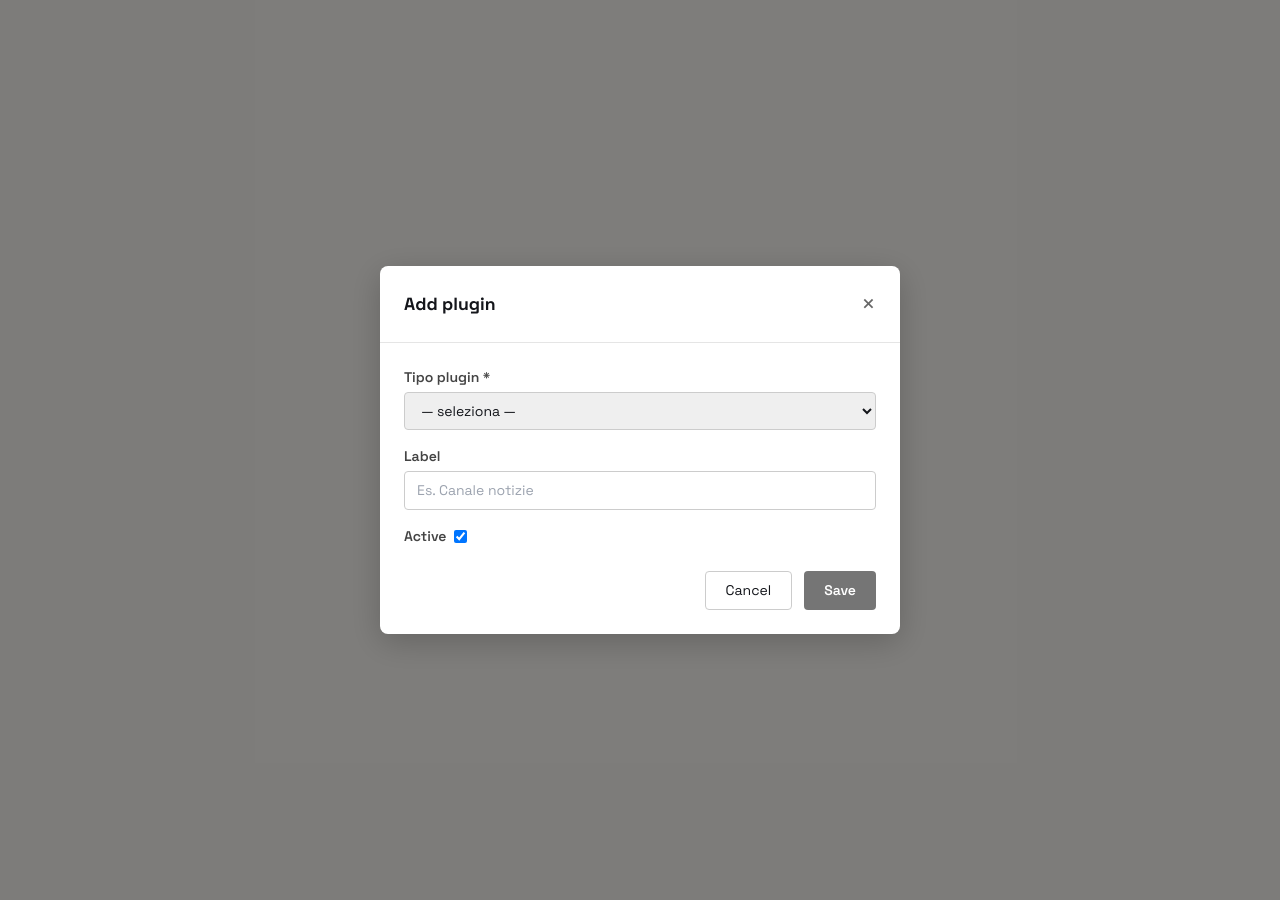
PluginFormModal › generates fields from schema when type selected
Select "Telegram" in the dropdown at {"x": 640, "y": 411}, box [404,392,876,430]
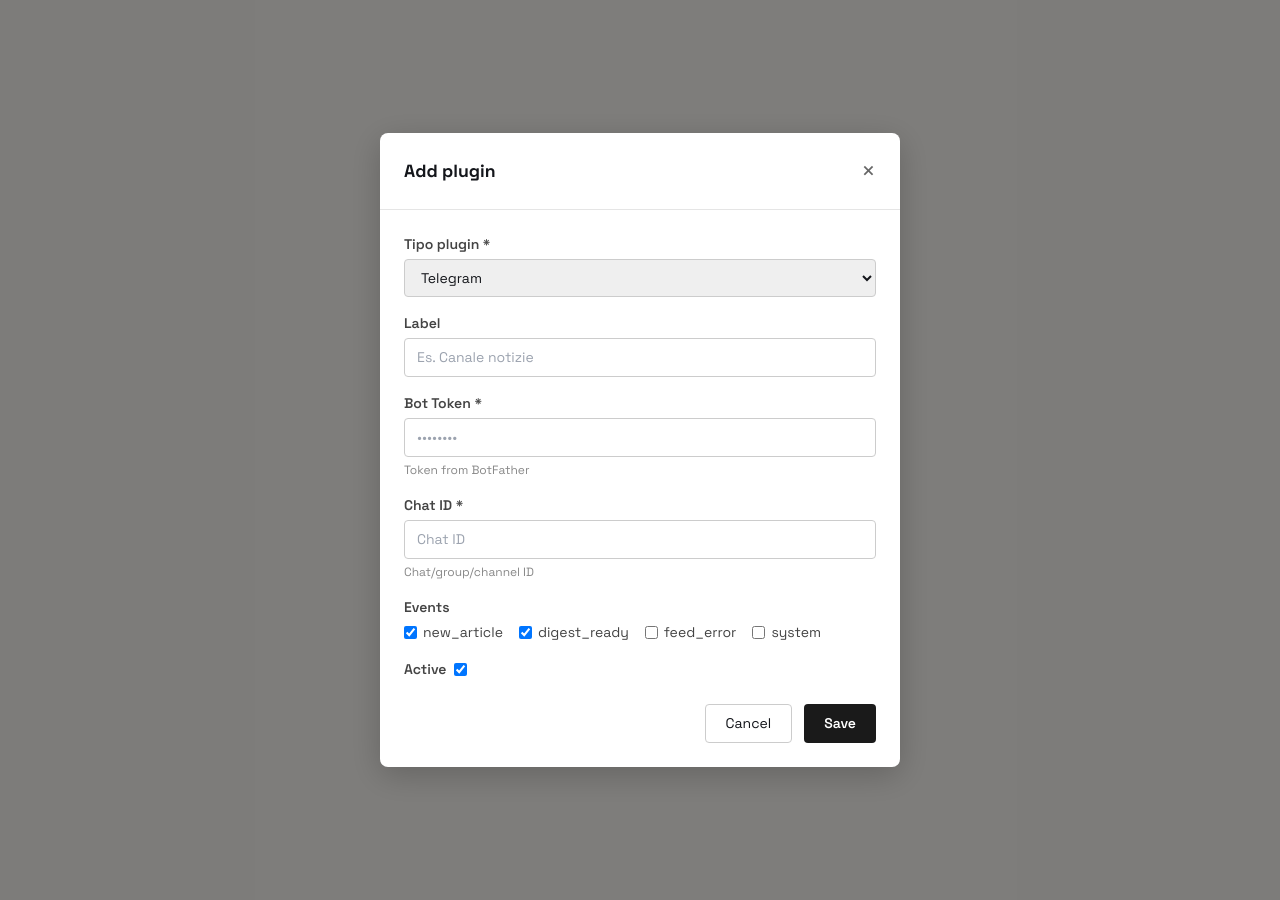
Expected: the text "Bot Token" is shown, [404,394,482,412]
Expected: the text "Chat ID" is shown, [404,496,463,514]
